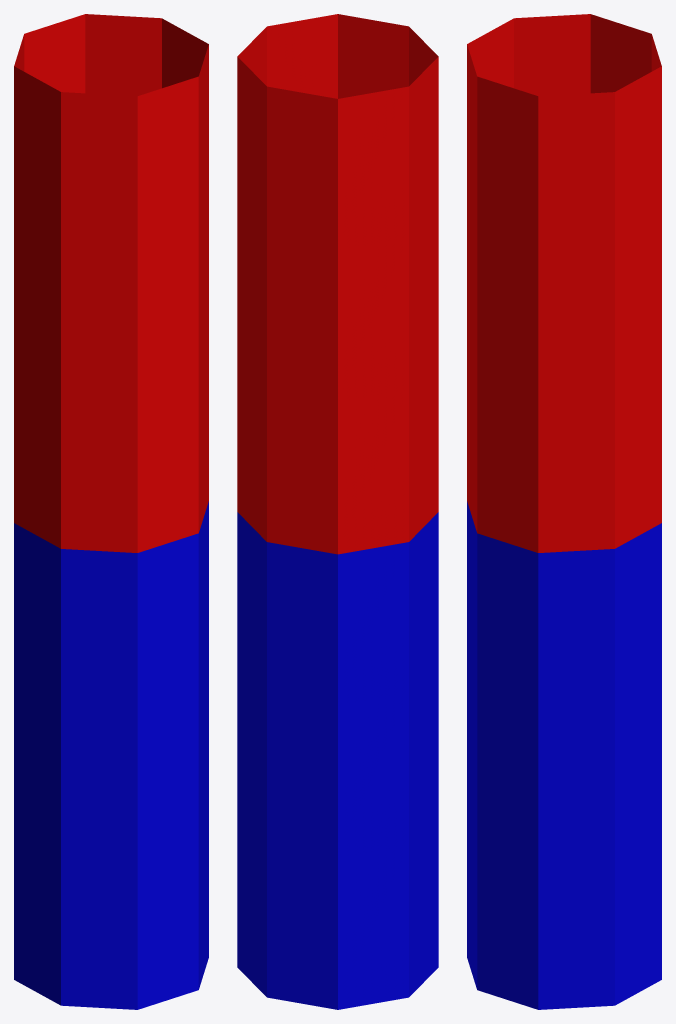
File: rig.obj
3 renders of one model, left to right at view 1: azimuth 30°, elevation 25°; view 2: azimuth 150°, elevation 25°; view 3: azimuth 270°, elevation 25°, orthographic.
Parts seen in each view (by area): view 1: Body; view 2: Body; view 3: Body.
Boxes of the visible parts, bbox=[...] form: Body: bbox=[14, 14, 208, 1009]; Body: bbox=[237, 14, 438, 1009]; Body: bbox=[467, 14, 661, 1009].
Size of the model in its own units: 0.5796 by 3 by 0.5796.
1 material, 1 textured.
